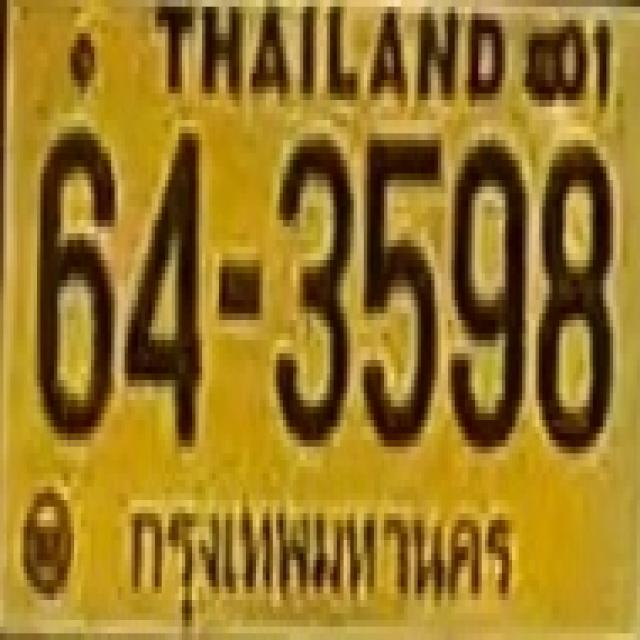3: (273, 133, 350, 440)
4: (121, 123, 199, 437)
5: (360, 133, 438, 440)
6: (34, 120, 111, 433)
8: (536, 140, 610, 447)
9: (448, 133, 522, 447)
BKK: (110, 468, 522, 640)
